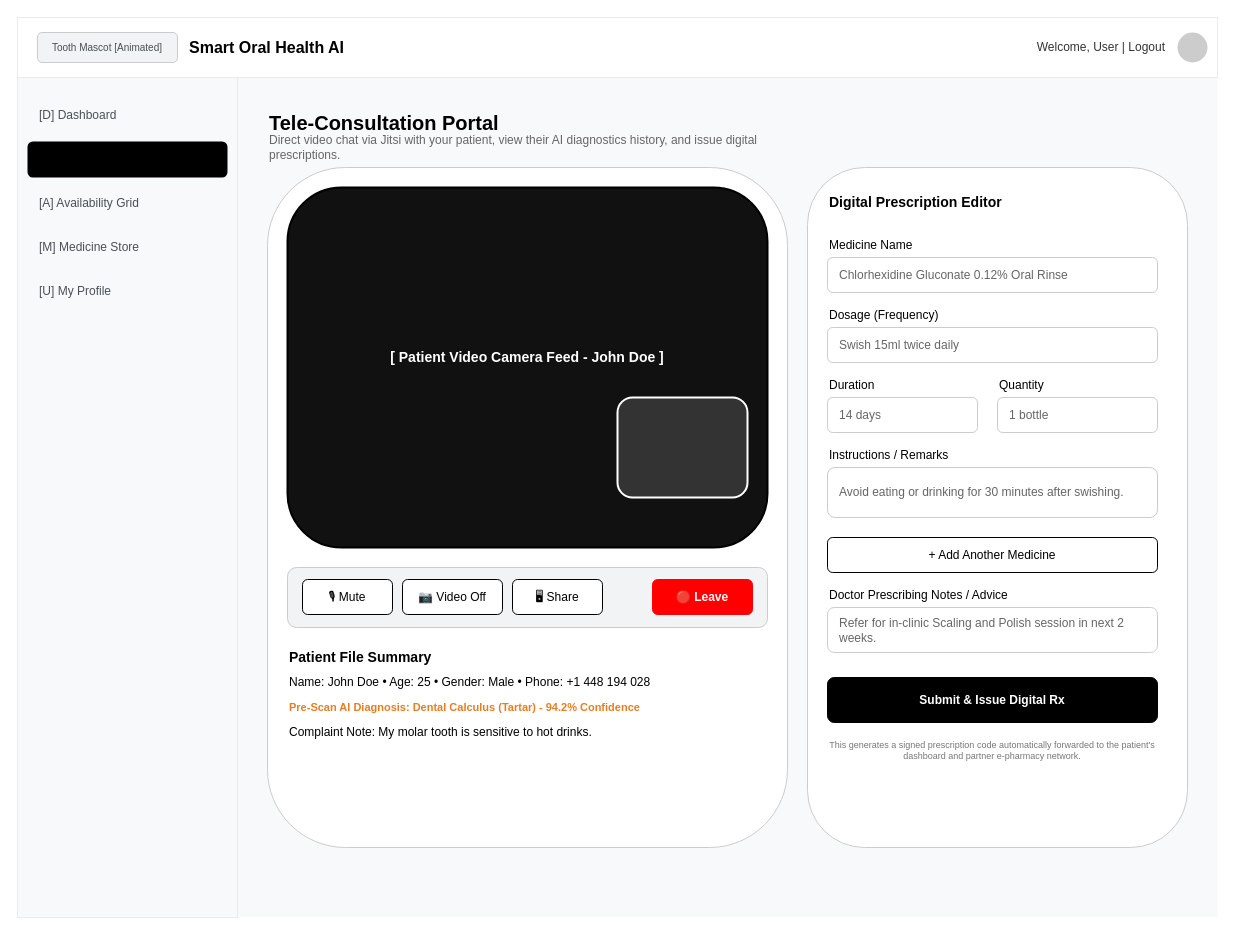
The diagram is 1235 pixels wide and 935 high, and some of its shapes have lost their labels. Here are the shapes that lost their labels. From the top down, the centre of each, then its label:
At point 127,159: "[V] Consultation Room".
At point 682,447: "[ Your Video ]".
